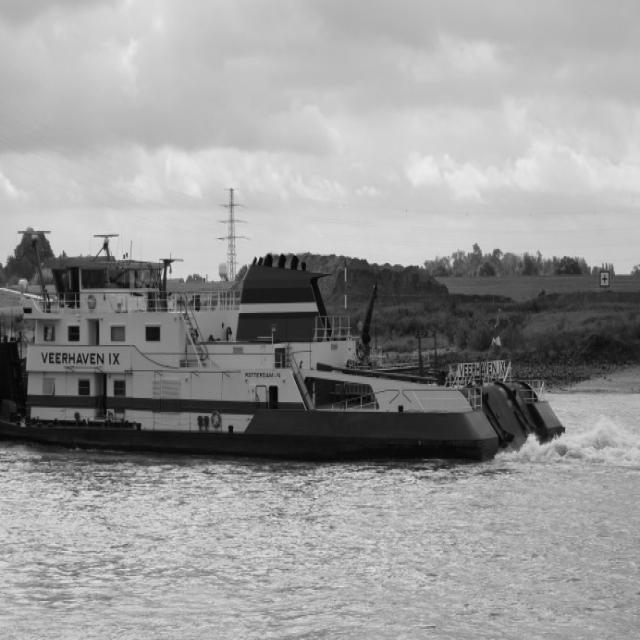tugboat: (1, 229, 572, 476)
